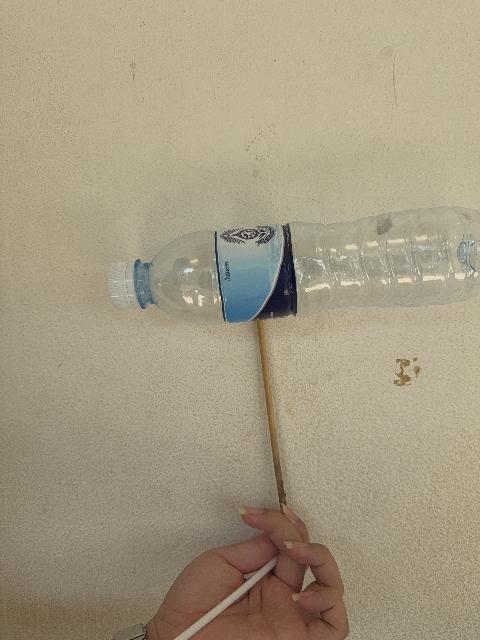bottle: (108, 208, 479, 324)
